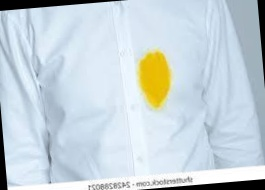mustard: (138, 50, 178, 112)
